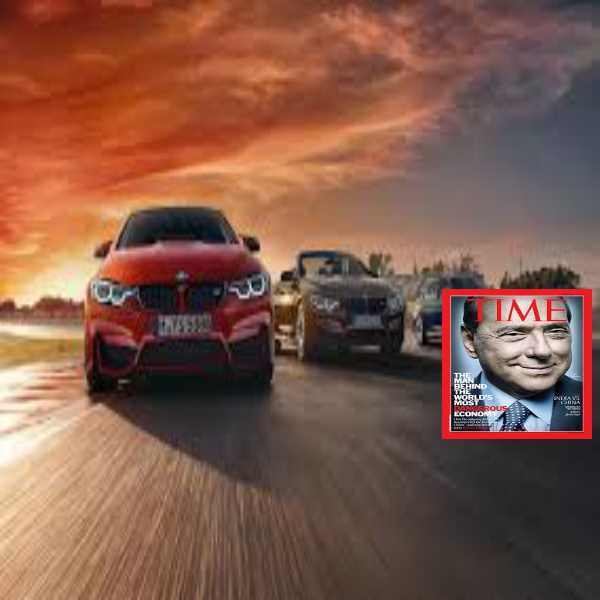time_cover: (435, 280, 598, 441)
